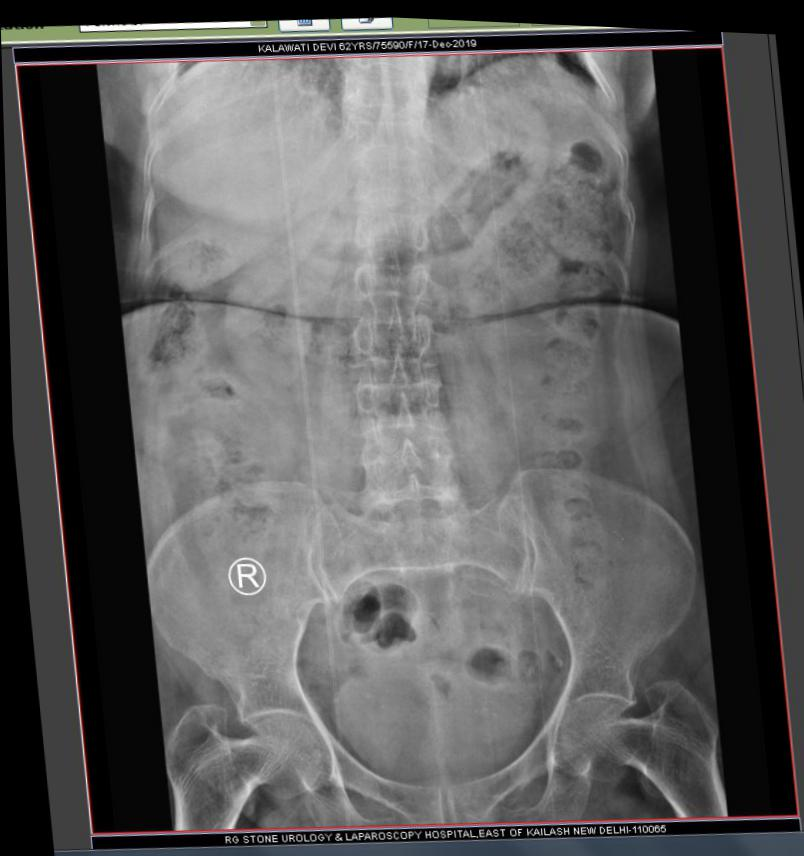bladder: (319, 635, 545, 793)
vertebrae: (346, 199, 429, 260)
